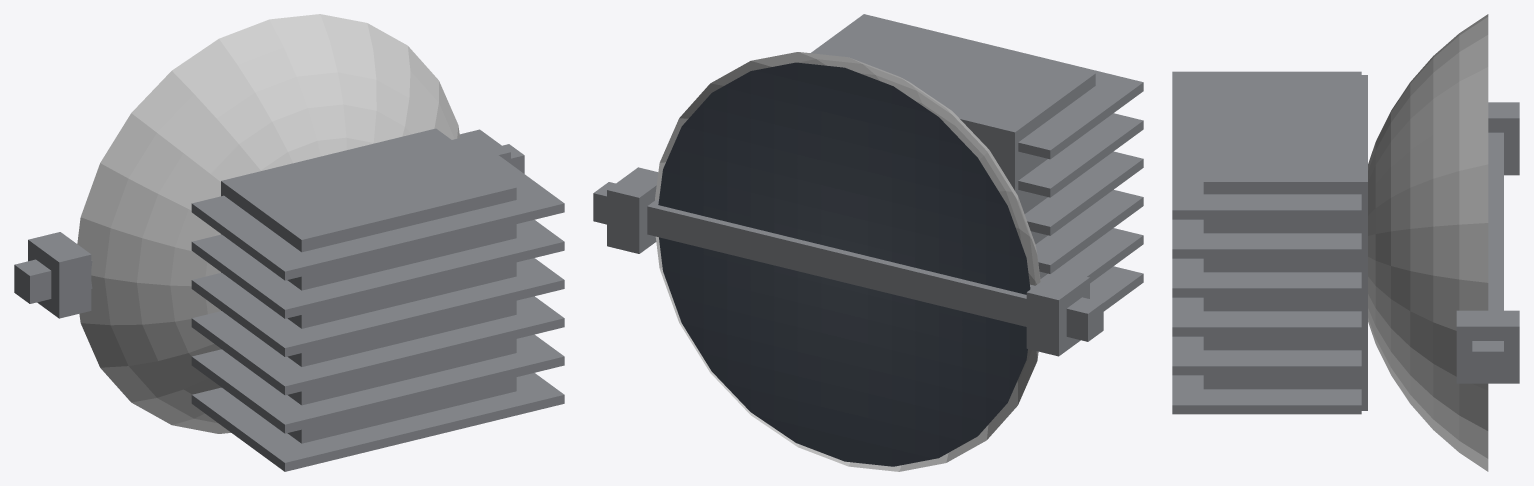
File: body.obj
3 renders of one model, left to right at view 1: azimuth 30°, elevation 25°; view 2: azimuth 150°, elevation 25°; view 3: azimuth 270°, elevation 25°, orthographic.
Parts seen in each view (by area): view 1: dark, dish; view 2: lens, dark, dish; view 3: dark, dish.
Boxes of the visible parts, bbox=[...] form: dark: bbox=[14, 128, 564, 471]; dish: bbox=[77, 14, 459, 433]; lens: bbox=[658, 62, 1030, 466]; dark: bbox=[593, 14, 1143, 356]; dish: bbox=[655, 52, 1040, 471]; dark: bbox=[1172, 71, 1519, 414]; dish: bbox=[1368, 14, 1488, 471].
Size of the model in its own units: 0.92 by 0.7275 by 0.55.
